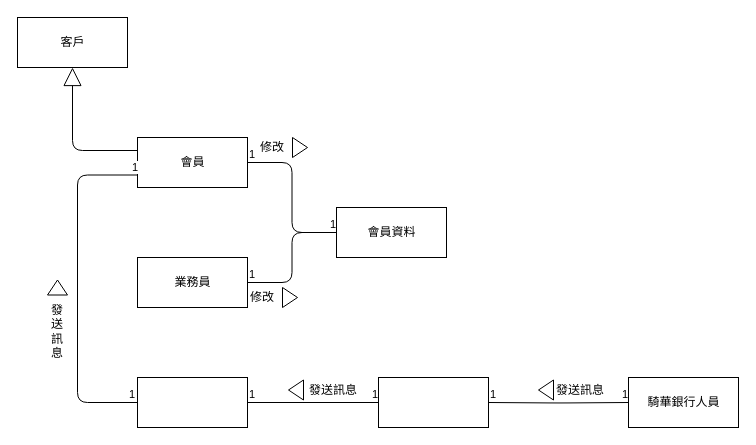
The diagram is 756 pixels wide and 445 high, and some of its shapes have lost their labels. Here are the shapes that lost their labels. From the top down, the centre of each, then its label:
(192,402): 華鐘電信人員
(433,402): 系統人員
